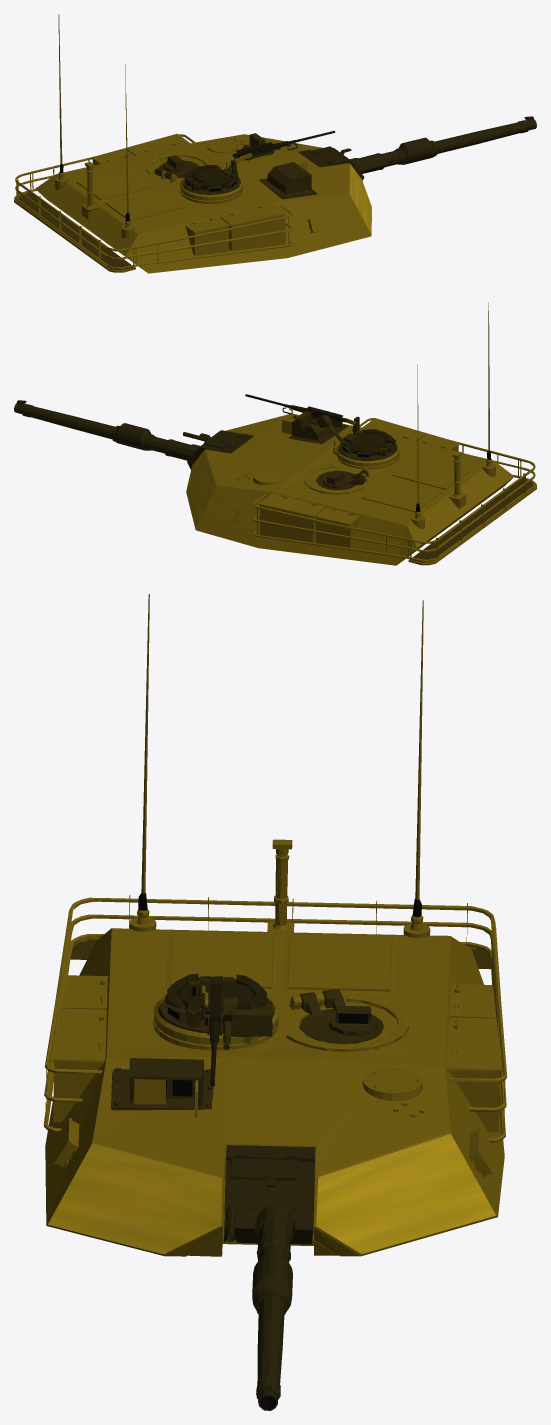
File: main_gun.obj
The picture shows the model from 3 angles, top to bottom: view 1: azimuth 30°, elevation 25°; view 2: azimuth 150°, elevation 25°; view 3: azimuth 270°, elevation 25°; orthographic projection. The views are drawn at different scales.
Parts seen in each view (by area): view 1: rowheel_l_hull1, Rectangle3_bofront, maingun_out1, grille_hull11, Box01_body, track_Material_#2, Rectangle4_hull, ChamferCyl_out, rowheel_l_fhr, tray_body, Rectangle6_Metal_gray, comhatch_body (+1 smaller); view 2: rowheel_l_hull1, Rectangle3_bofront, maingun_out1, Rectangle4_hull, track_Material_#2, rowheel_l_fhr1, grille_hull11, tray_body, ChamferCyl_out, comhatch_body, Box01_body, Rectangle6_Metal_gray (+2 smaller); view 3: rowheel_l_hull1, rowheel_l_fhr1, maingun_out1, rowheel_l_fhr, Rectangle3_bofront, Rectangle4_hull, grille_hull11, Box01_body, comhatch_body, ChamferCyl_out, tray_body, 00m2_hull11_Metal_gra (+2 smaller).
Boxes of the visible parts, box(x1,y1,x2,y2) form: rowheel_l_hull1: box(35, 14, 371, 273); Rectangle3_bofront: box(14, 134, 293, 272); maingun_out1: box(298, 116, 536, 180); grille_hull11: box(185, 203, 286, 255); Box01_body: box(259, 162, 316, 199); track_Material_#2: box(19, 193, 134, 269); Rectangle4_hull: box(91, 133, 189, 165); ChamferCyl_out: box(183, 165, 235, 190); rowheel_l_fhr: box(349, 164, 371, 234); tray_body: box(183, 144, 251, 194); Rectangle6_Metal_gray: box(232, 130, 335, 160); comhatch_body: box(154, 155, 198, 179); rowheel_l_hull1: box(195, 302, 514, 565); Rectangle3_bofront: box(253, 418, 536, 565); maingun_out1: box(14, 400, 253, 469); Rectangle4_hull: box(258, 493, 360, 547); track_Material_#2: box(410, 479, 533, 562); rowheel_l_fhr1: box(186, 450, 215, 527); grille_hull11: box(362, 418, 459, 451); tray_body: box(316, 414, 397, 460); ChamferCyl_out: box(343, 429, 396, 456); comhatch_body: box(316, 469, 368, 489); Box01_body: box(289, 420, 347, 443); Rectangle6_Metal_gray: box(245, 394, 346, 422); rowheel_l_hull1: box(45, 594, 504, 1256); rowheel_l_fhr1: box(316, 1134, 495, 1253); maingun_out1: box(224, 1145, 315, 1410); rowheel_l_fhr: box(48, 1143, 221, 1254); Rectangle3_bofront: box(43, 895, 507, 1142); Rectangle4_hull: box(446, 984, 501, 1132); grille_hull11: box(52, 975, 107, 1122); Box01_body: box(111, 1058, 213, 1110); comhatch_body: box(299, 988, 383, 1043); ChamferCyl_out: box(167, 973, 267, 1020); tray_body: box(158, 976, 273, 1033); 00m2_hull11_Metal_gra: box(207, 993, 272, 1050).
Size of the model in its own units: 20.1 by 8.86 by 8.56.
